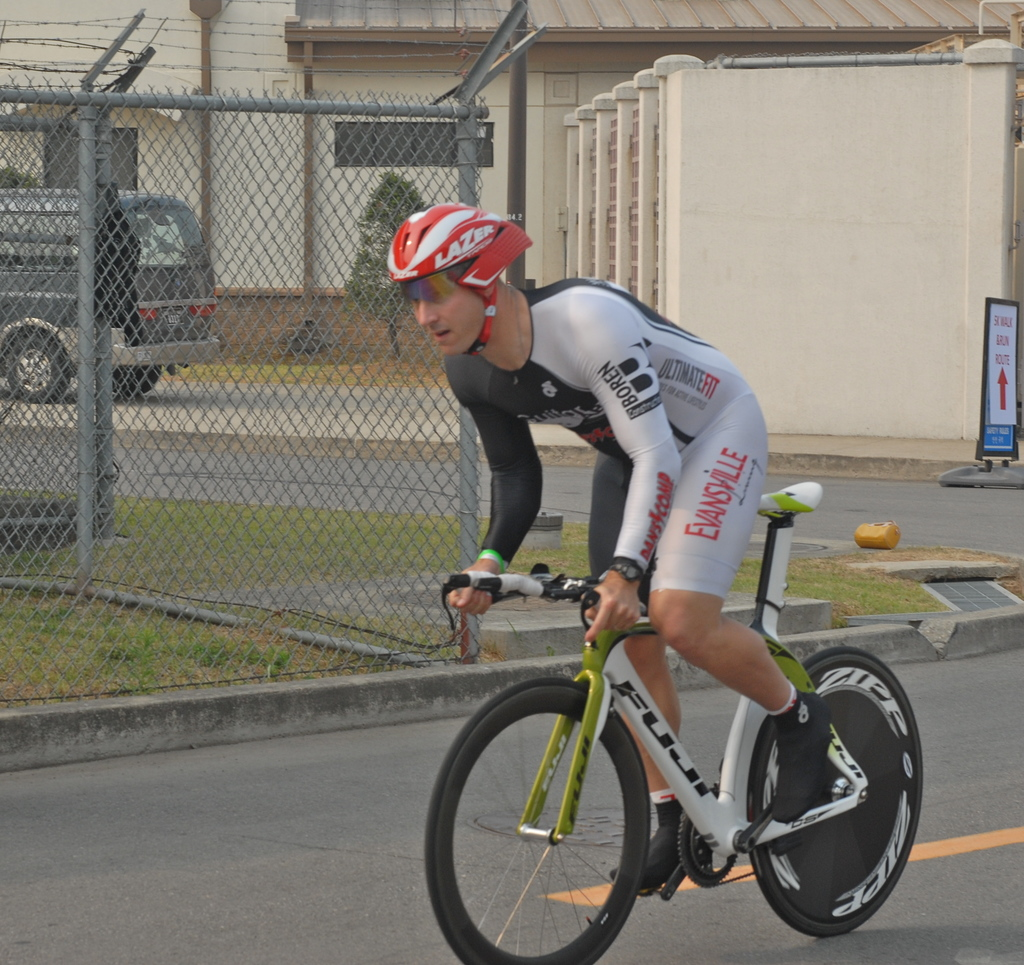Bike: (368, 475, 931, 965)
